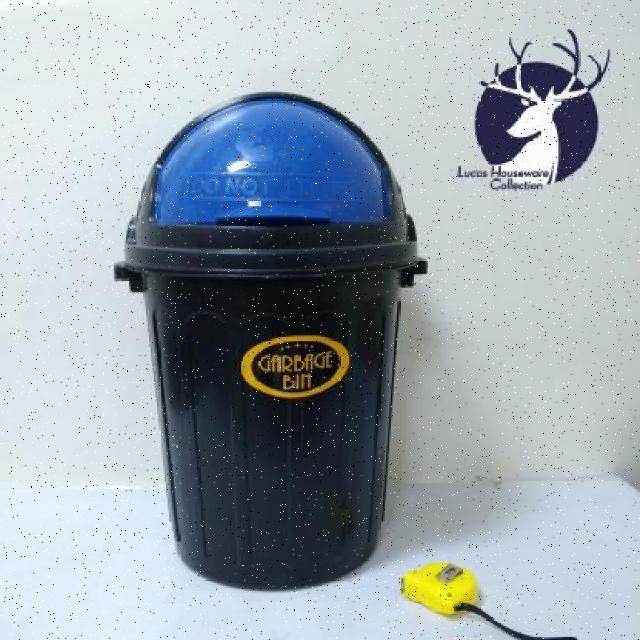garbage container: (96, 78, 430, 595)
